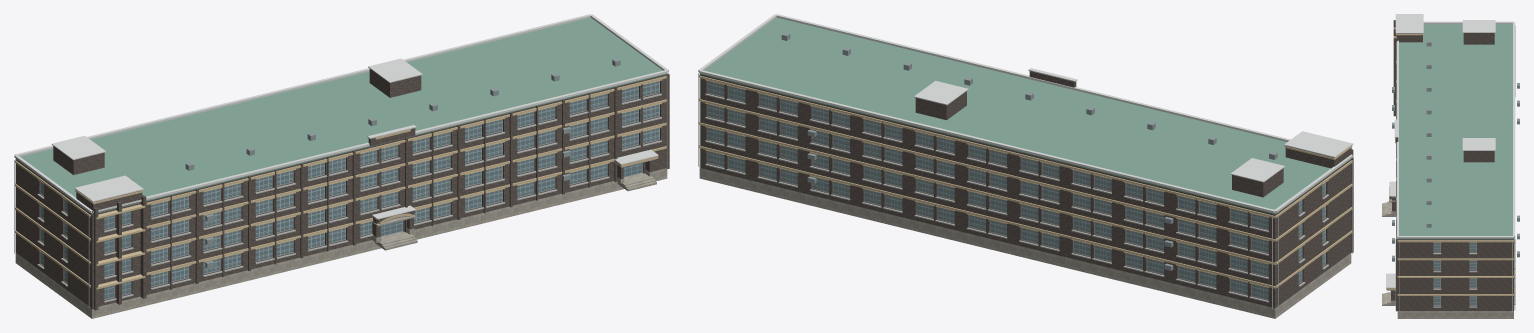
The picture shows the model from 3 angles, left to right: view 1: azimuth 30°, elevation 25°; view 2: azimuth 150°, elevation 25°; view 3: azimuth 270°, elevation 25°; orthographic projection. The views are drawn at different scales.
Visible parts, largest first — view 1: main__brick, main__roof, main__glass, main__band, main__frame, main__cap, main__stone, main__sill, main__metalroof, main__steel; view 2: main__brick, main__roof, main__sideglass, main__frame, main__band, main__cap, main__stone, main__sill, main__metalroof, main__steel; view 3: main__roof, main__brick, main__cap, main__band, main__stone, main__metalroof, main__sideglass, main__steel, main__frame, main__sill, main__stair-front.
Part boxes in pixels (box(x1,y1,x2,y2)): main__brick: box(15, 69, 669, 310); main__roof: box(15, 17, 667, 214); main__glass: box(104, 81, 659, 299); main__band: box(15, 76, 666, 289); main__frame: box(40, 81, 659, 299); main__cap: box(14, 14, 668, 219); main__stone: box(15, 168, 667, 318); main__sill: box(37, 93, 661, 302); main__metalroof: box(128, 58, 620, 267); main__steel: box(14, 73, 668, 307); main__brick: box(699, 71, 1353, 308); main__roof: box(699, 17, 1350, 214); main__sideglass: box(707, 81, 1325, 299); main__frame: box(707, 81, 1325, 299); main__band: box(698, 75, 1352, 288); main__cap: box(698, 14, 1353, 213); main__stone: box(699, 168, 1351, 318); main__sill: box(705, 93, 1328, 302); main__metalroof: box(781, 32, 1277, 270); main__steel: box(698, 73, 1352, 308); main__roof: box(1397, 24, 1513, 239); main__brick: box(1389, 20, 1514, 311); main__cap: box(1386, 14, 1515, 288); main__band: box(1386, 27, 1515, 296); main__stone: box(1389, 187, 1513, 318); main__metalroof: box(1392, 40, 1519, 261); main__sideglass: box(1434, 242, 1476, 305); main__steel: box(1395, 26, 1515, 311); main__frame: box(1433, 243, 1476, 305); main__sill: box(1396, 60, 1515, 307); main__stair-front: box(1382, 201, 1389, 216).
Bounding box in the file's own units: 85.68 × 17.3 × 23.08.
13 materials, 2 textured.
